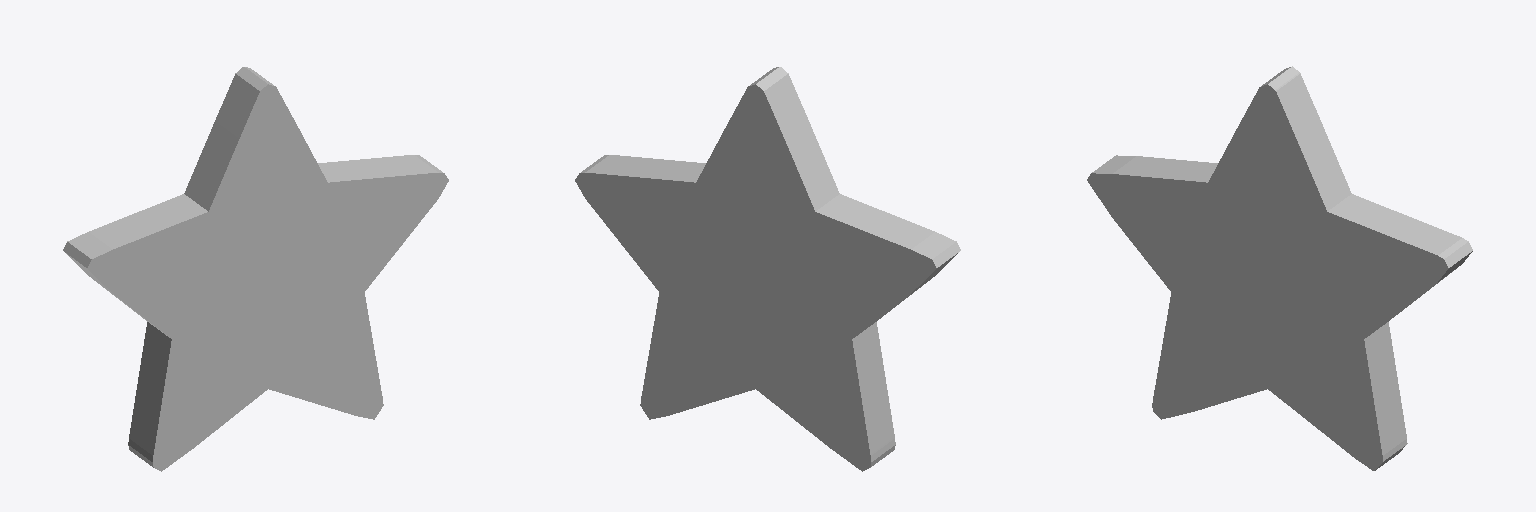
Rendered from fa-star.obj.
The picture shows the model from 3 angles: view 1: azimuth 30°, elevation 25°; view 2: azimuth 150°, elevation 25°; view 3: azimuth 330°, elevation 25°; orthographic projection.
Bounding box in the file's own units: 0.9826 × 0.9371 × 0.1152.